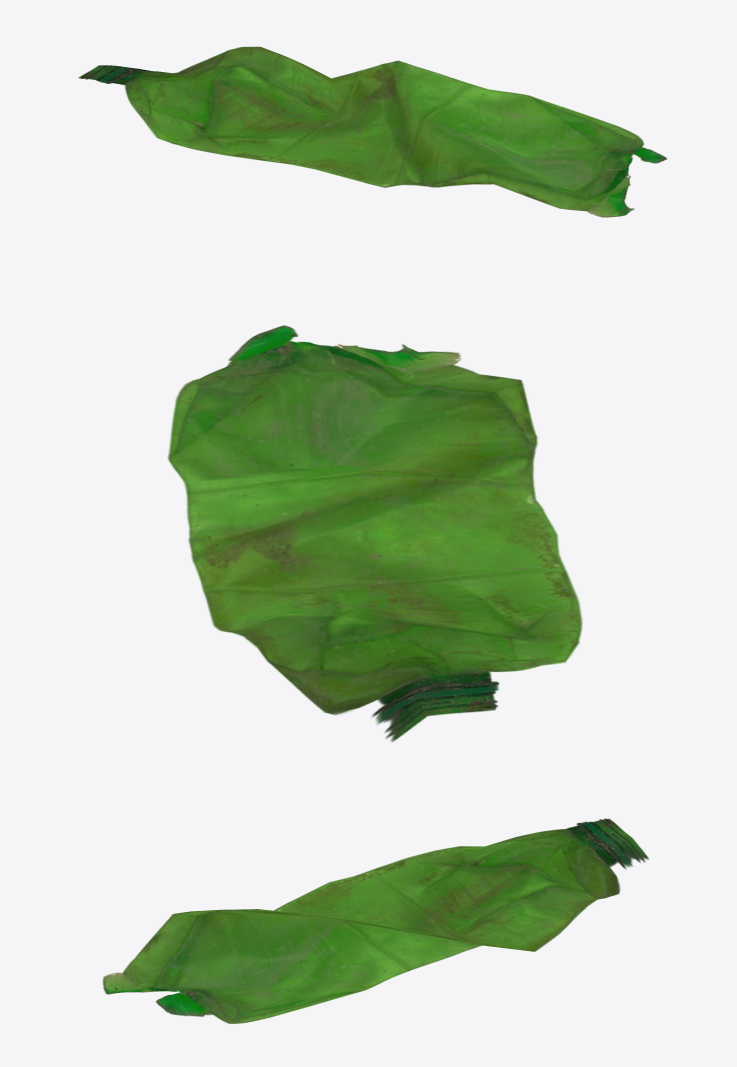
Rendered from SM_Laji04.glb.
The picture shows the model from 3 angles, top to bottom: view 1: azimuth 30°, elevation 25°; view 2: azimuth 150°, elevation 25°; view 3: azimuth 270°, elevation 25°; orthographic projection. The views are drawn at different scales.
Visible parts, largest first — view 1: SM_LaJi04; view 2: SM_LaJi04; view 3: SM_LaJi04.
Boxes of the visible parts, x1,y1,x2,y2 form: SM_LaJi04: (78,46,667,217); SM_LaJi04: (167,325,582,741); SM_LaJi04: (102,818,648,1023).
Bounding box in the file's own units: 0.4965 × 0.0309 × 0.606.
Materials: 1 (1 with a texture image).
